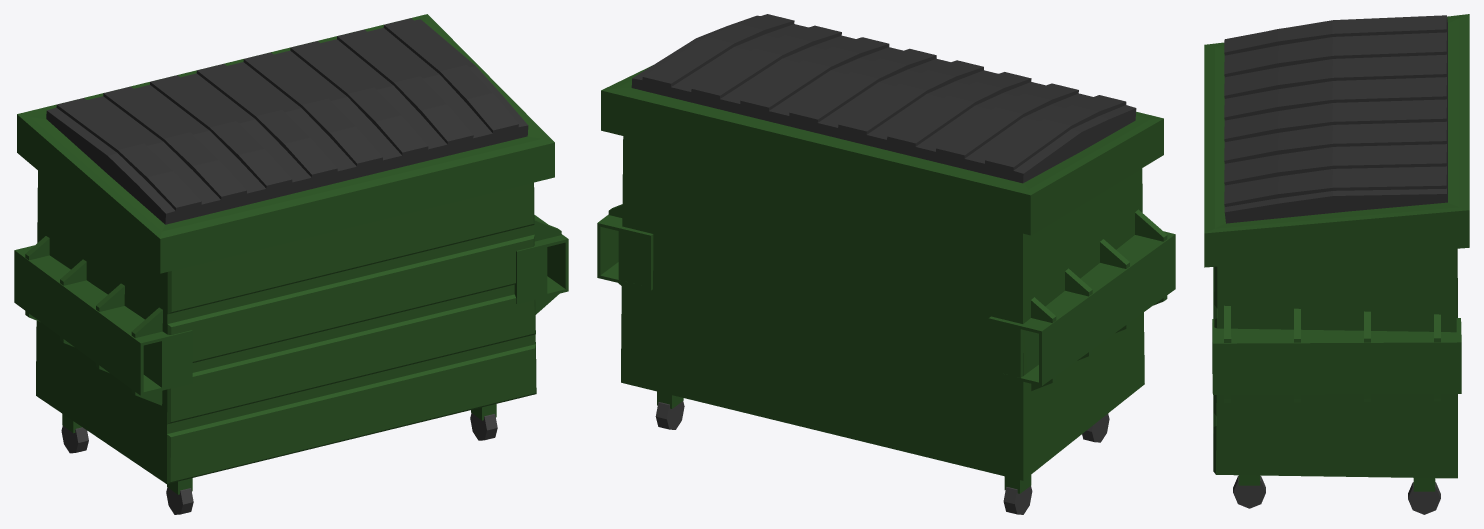
File: dumpster.glb
The picture shows the model from 3 angles, left to right: view 1: azimuth 30°, elevation 25°; view 2: azimuth 150°, elevation 25°; view 3: azimuth 270°, elevation 25°; orthographic projection. The views are drawn at different scales.
Parts seen in each view (by area): view 1: Cube.004; view 2: Cube.004; view 3: Cube.004.
Part boxes in pixels (bbox=[...]): Cube.004: bbox=[14, 14, 568, 514]; Cube.004: bbox=[597, 14, 1175, 514]; Cube.004: bbox=[1204, 14, 1469, 514].
Size of the model in its own units: 1.66 by 1.26 by 0.91.
